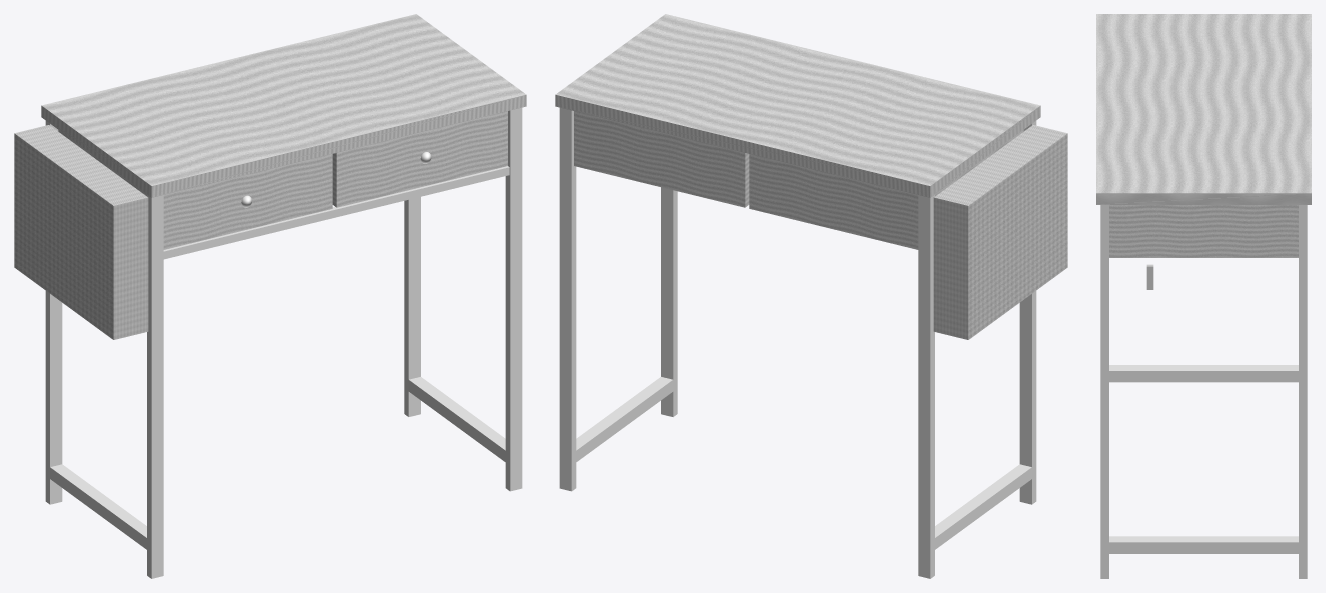
The picture shows the model from 3 angles, left to right: view 1: azimuth 30°, elevation 25°; view 2: azimuth 150°, elevation 25°; view 3: azimuth 270°, elevation 25°; orthographic projection. The views are drawn at different scales.
Parts seen in each view (by area): view 1: 1 desktop, 13 side_storage_bag, 3 right_drawer, 2 left_drawer, 8 front_right_leg, 6 front_left_leg, 7 back_left_leg, 12 under_drawer_bar, 9 back_right_leg, 10 left_bottom_bar, 11 right_bottom_bar; view 2: 1 desktop, 13 side_storage_bag, 3 right_drawer, 2 left_drawer, 9 back_right_leg, 7 back_left_leg, 8 front_right_leg, 6 front_left_leg, 11 right_bottom_bar, 10 left_bottom_bar; view 3: 1 desktop, 3 right_drawer, 11 right_bottom_bar, 10 left_bottom_bar, 8 front_right_leg, 9 back_right_leg.
Boxes of the visible parts, x1,y1,x2,y2 form: 1 desktop: (41,14,526,197); 13 side_storage_bag: (14,125,148,339); 3 right_drawer: (332,111,507,207); 2 left_drawer: (58,130,332,249); 8 front_right_leg: (505,107,522,491); 6 front_left_leg: (147,195,163,578); 7 back_left_leg: (45,121,62,504); 12 under_drawer_bar: (163,166,509,259); 9 back_right_leg: (404,197,420,416); 10 left_bottom_bar: (50,464,149,551); 11 right_bottom_bar: (408,377,507,462); 1 desktop: (555,14,1040,197); 13 side_storage_bag: (933,125,1067,339); 3 right_drawer: (574,111,749,207); 2 left_drawer: (749,130,1023,249); 9 back_right_leg: (559,107,576,491); 7 back_left_leg: (918,195,934,578); 8 front_right_leg: (661,187,677,416); 6 front_left_leg: (1019,121,1036,504); 11 right_bottom_bar: (574,377,673,463); 10 left_bottom_bar: (932,464,1031,551); 1 desktop: (1096,14,1311,204); 3 right_drawer: (1109,205,1298,257); 11 right_bottom_bar: (1104,536,1303,553); 10 left_bottom_bar: (1109,365,1298,382); 8 front_right_leg: (1100,205,1108,578); 9 back_right_leg: (1299,205,1307,578).
Bounding box in the file's own units: 1.08 × 1 × 0.506.
5 materials, 2 textured.
